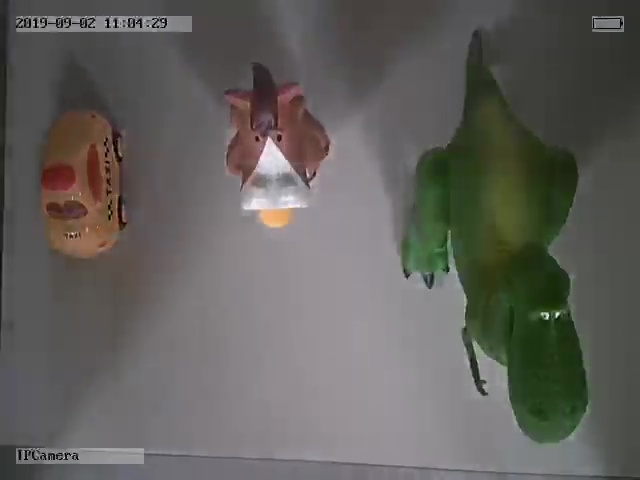car: (38, 109, 129, 258)
horse: (225, 61, 331, 228)
rex: (403, 48, 591, 445)
